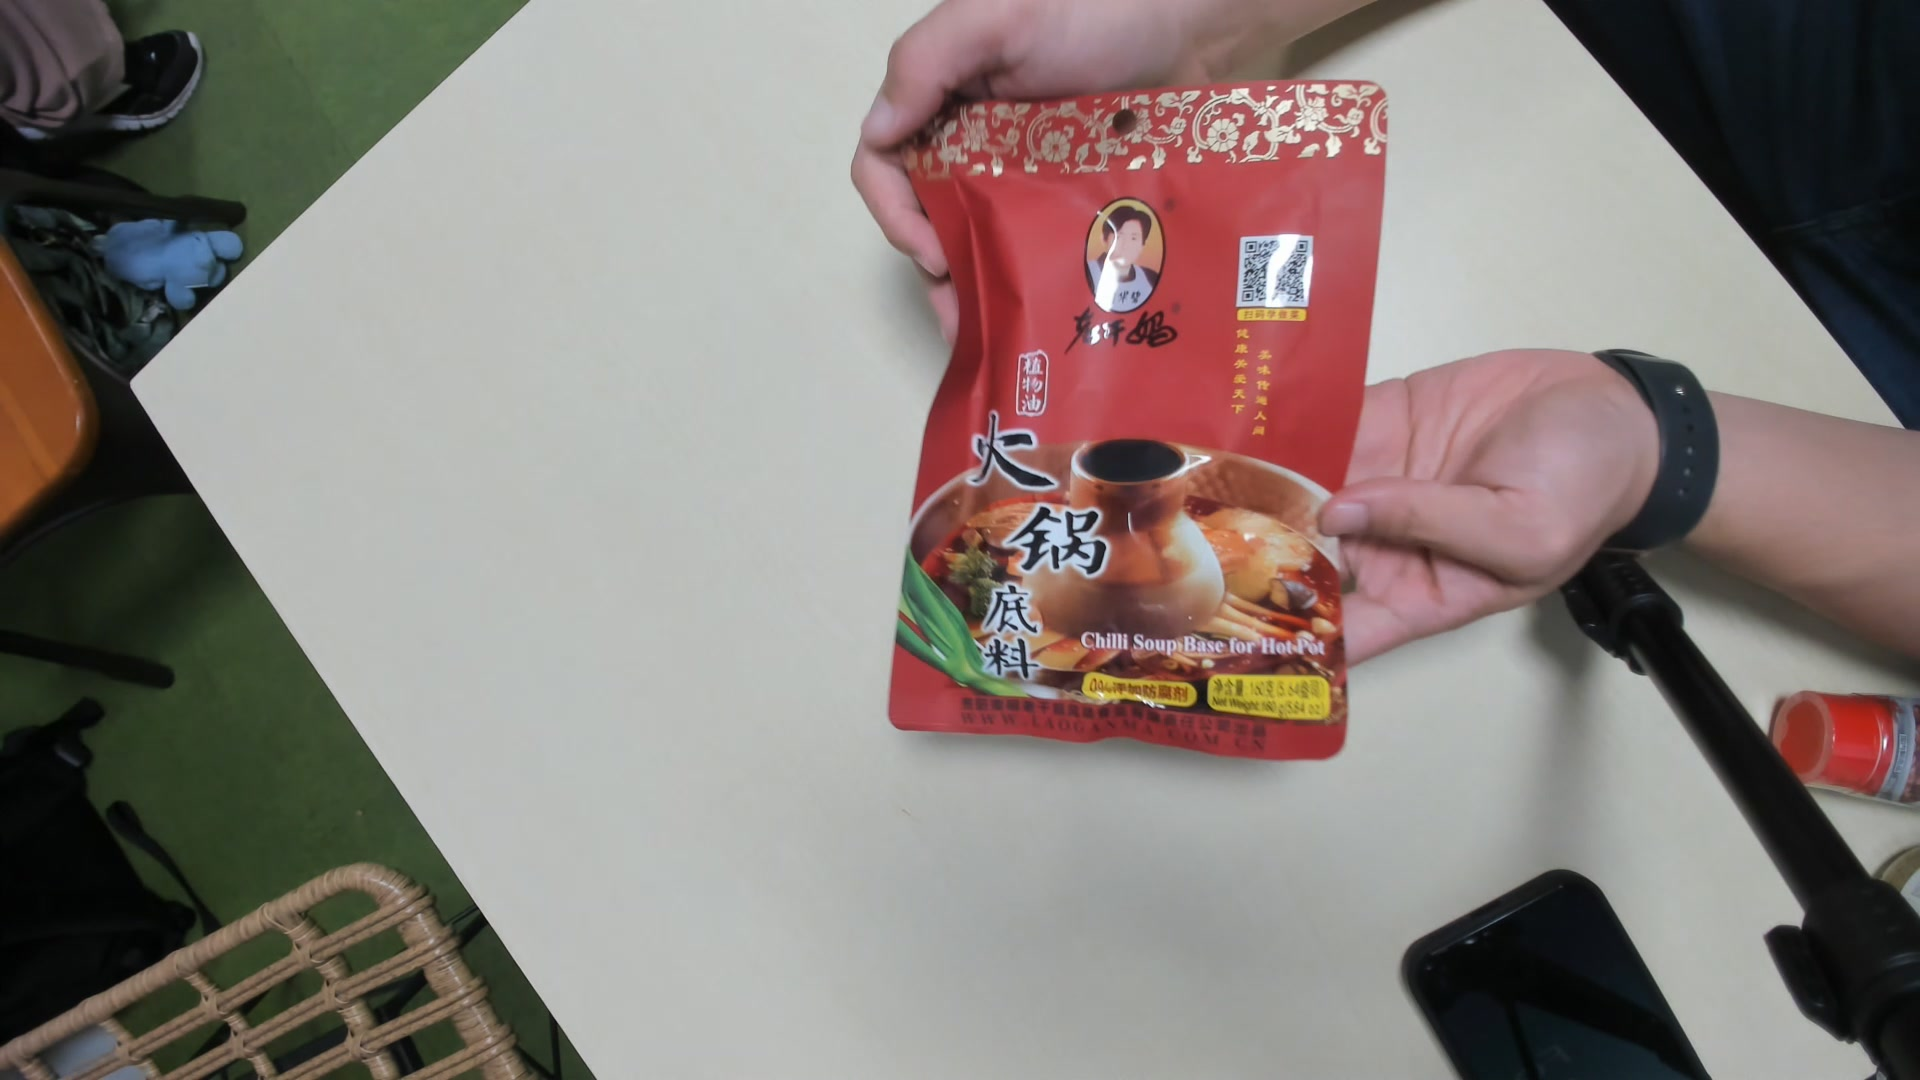OtherSauceDressing_100-199g_NonHalal_NonHealthy: (891, 75, 1389, 771)
